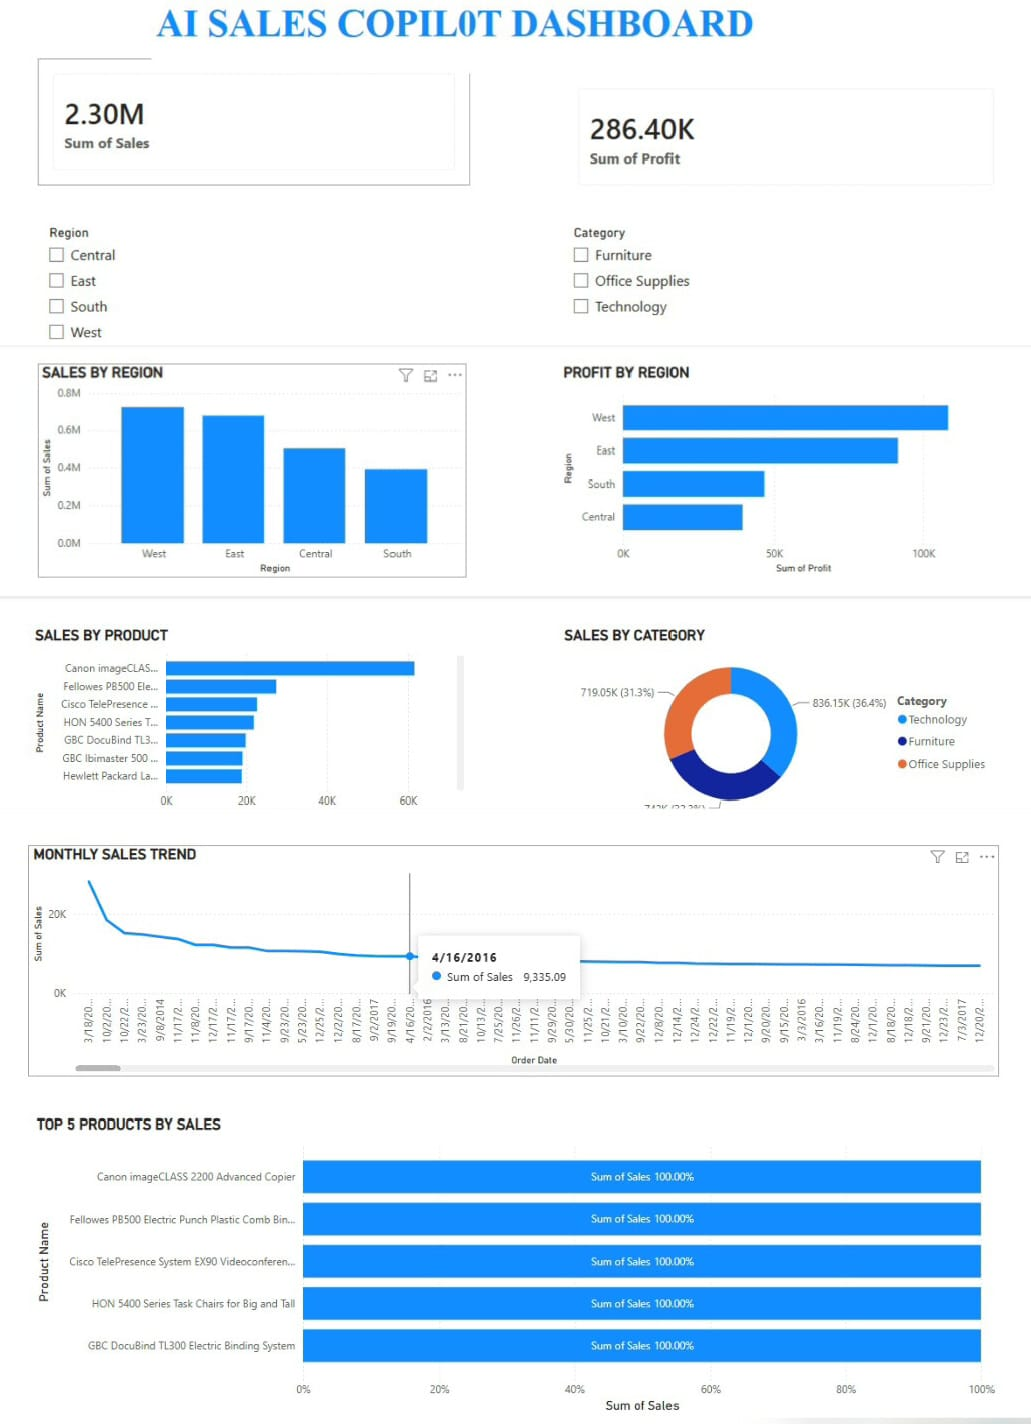

The page's visual inventory and layout, read from the dashboard file:
{"tool":"powerbi","page":{"name":"Page 2","canvas":[1280,1700],"ordinal":0},"visuals":[{"type":"clusteredColumnChart","title":"SALES BY REGION","fields":{"Category":["Sample - Superstore (2).Region"],"Y":["Sum(Sample - Superstore (2).Sales)"]},"box":[82,480,486,240],"z":0},{"type":"lineChart","title":"MONTHLY SALES TREND","fields":{"Category":["Sample - Superstore (2).Order Date"],"Y":["Sum(Sample - Superstore (2).Sales)"]},"box":[68,1027,1104,264],"z":3000},{"type":"clusteredBarChart","title":"PROFIT BY REGION","fields":{"Category":["Sample - Superstore (2).Region"],"Y":["Sum(Sample - Superstore (2).Profit)"]},"box":[673,480,499,240],"z":4000},{"type":"clusteredBarChart","title":"SALES BY PRODUCT","fields":{"Category":["Sample - Superstore (2).Product Name"],"Y":["Sum(Sample - Superstore (2).Sales)"]},"box":[68,754,500,226],"z":5000},{"type":"donutChart","title":"SALES BY CATEGORY","fields":{"Category":["Sample - Superstore (2).Category"],"Y":["Sum(Sample - Superstore (2).Sales)"]},"box":[673,754,500,226],"z":6000},{"type":"cardVisual","fields":{"Data":["Sum(Sample - Superstore (2).Sales)"]},"box":[82,101,486,142],"z":6001},{"type":"slicer","fields":{"Values":["Sample - Superstore (2).Category"]},"box":[672,283,501,164],"z":6002},{"type":"cardVisual","fields":{"Data":["Sum(Sample - Superstore (2).Profit)"]},"box":[673,118,500,142],"z":6003},{"type":"slicer","fields":{"Values":["Sample - Superstore (2).Region"]},"box":[82,283,486,164],"z":6004},{"type":"textbox","box":[210,32,778,86],"z":6005},{"type":"hundredPercentStackedBarChart","title":"TOP 5 PRODUCTS BY SALES","fields":{"Y":["Sum(Sample - Superstore (2).Sales)"],"Category":["Sample - Superstore (2).Product Name"]},"box":[70,1341.2,1103.8,343.8],"z":6006}]}

Visuals, with their boxes on the page's 1280x1700 design canvas (x1, y1, x2, y2). These are canvas units, not pixel positions in the 1031x1424 screenshot, which may show the page scaled, cropped or inside an application window:
"SALES BY REGION" clusteredColumnChart: box=[82, 480, 568, 720]
"MONTHLY SALES TREND" lineChart: box=[68, 1027, 1172, 1291]
"PROFIT BY REGION" clusteredBarChart: box=[673, 480, 1172, 720]
"SALES BY PRODUCT" clusteredBarChart: box=[68, 754, 568, 980]
"SALES BY CATEGORY" donutChart: box=[673, 754, 1173, 980]
cardVisual - Sum(Sample - Superstore (2).Sales): box=[82, 101, 568, 243]
slicer - Sample - Superstore (2).Category: box=[672, 283, 1173, 447]
cardVisual - Sum(Sample - Superstore (2).Profit): box=[673, 118, 1173, 260]
slicer - Sample - Superstore (2).Region: box=[82, 283, 568, 447]
textbox: box=[210, 32, 988, 118]
"TOP 5 PRODUCTS BY SALES" hundredPercentStackedBarChart: box=[70, 1341, 1174, 1685]
